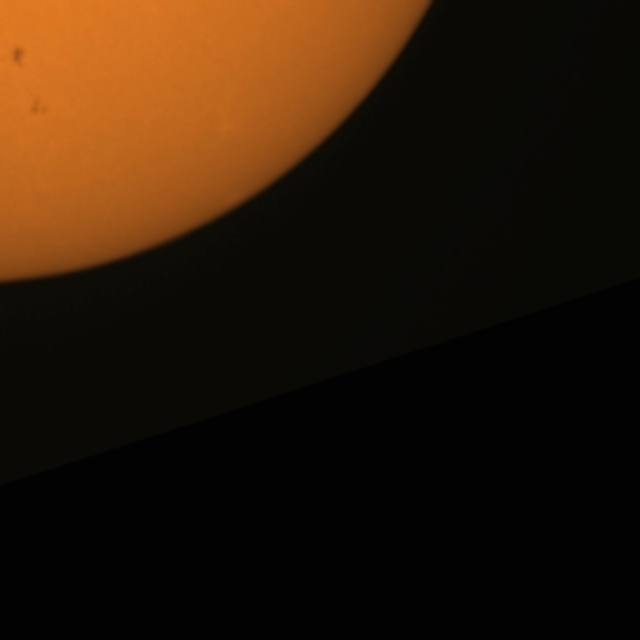sunspot: (27, 98, 52, 119), (10, 44, 28, 71)
